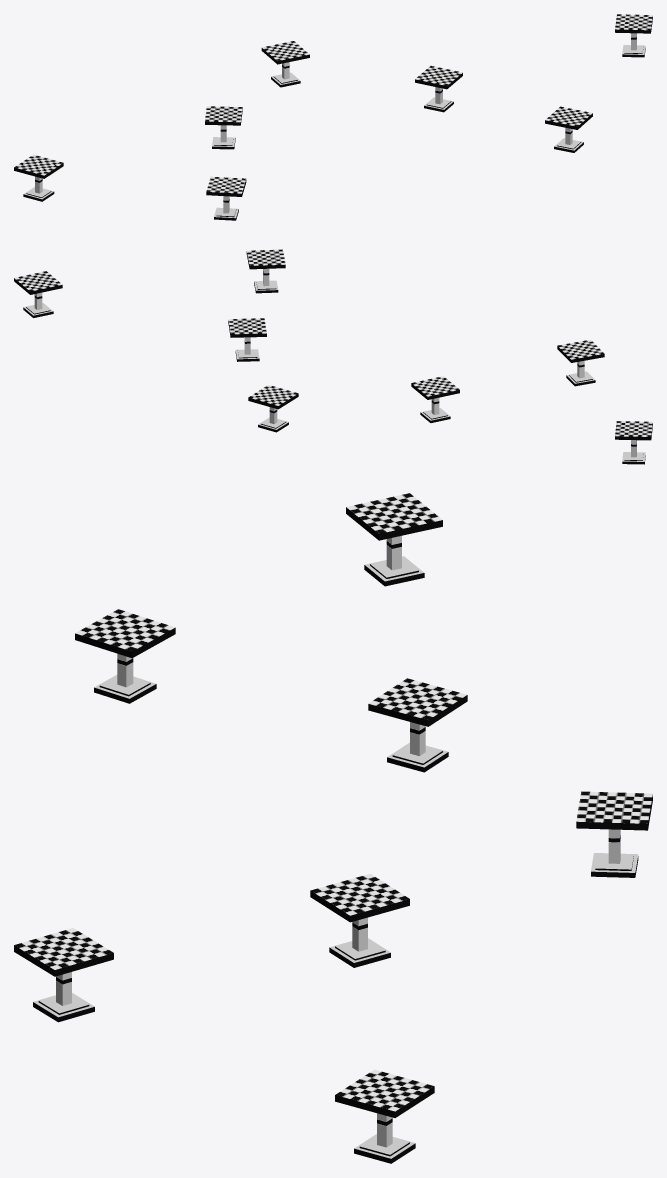
File: Chess_table01.fbx
3 views of the same model, one above another, from view 1: azimuth 30°, elevation 25°; view 2: azimuth 150°, elevation 25°; view 3: azimuth 270°, elevation 25° (orthographic). The views are drawn at different scales.
Parts seen in each view (by area): view 1: Chess_table01; view 2: Chess_table01; view 3: Chess_table01.
Boxes of the visible parts, x1=… form: Chess_table01: x1=14, y1=14, x2=652, y2=220; Chess_table01: x1=14, y1=249, x2=652, y2=464; Chess_table01: x1=14, y1=493, x2=652, y2=1163.
Size of the model in its own units: 1545 by 70.19 by 675.
1 material, 1 textured.
